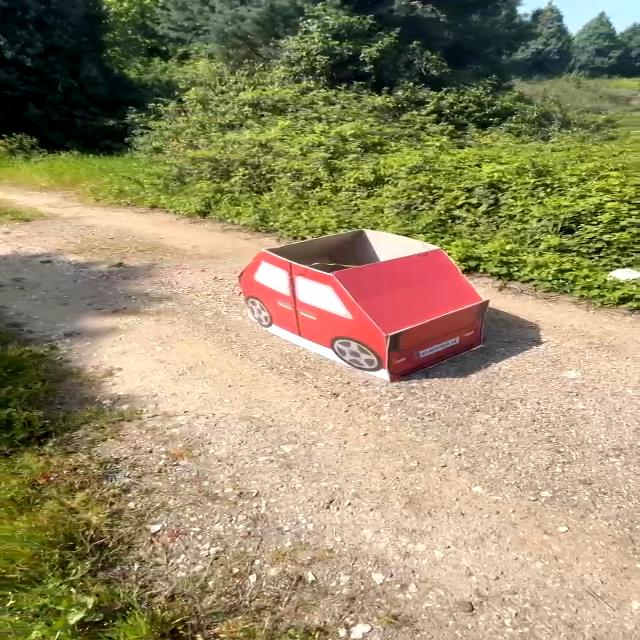red_car: (222, 211, 520, 395)
